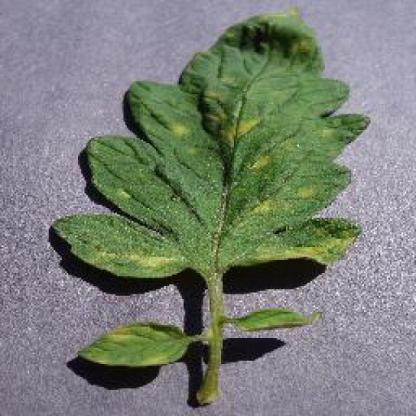Tomato_Leaf_Mold: (51, 6, 369, 274)
